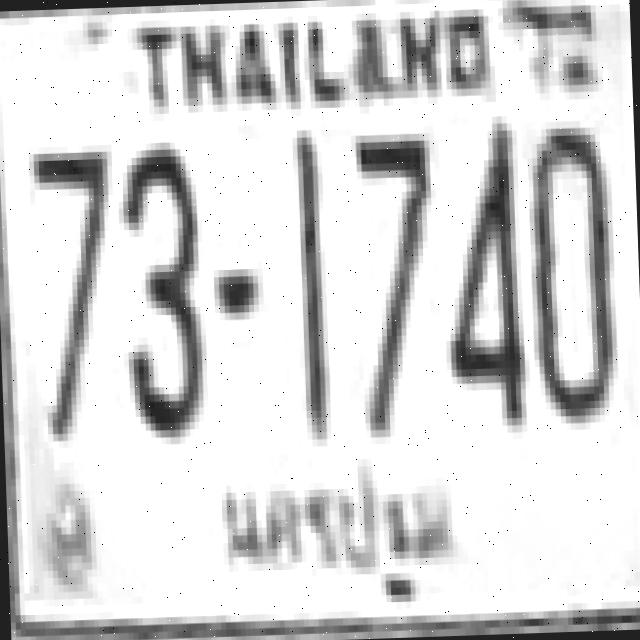0: (526, 119, 614, 417)
1: (288, 130, 328, 418)
3: (115, 141, 204, 431)
4: (438, 116, 522, 420)
7: (352, 126, 436, 430), (28, 144, 116, 434), (352, 126, 435, 402), (352, 126, 432, 330)
NakhonPathom: (213, 448, 472, 614)
